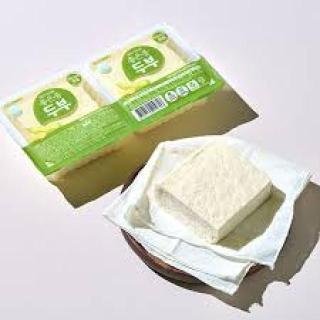Tahu: (151, 135, 279, 247)
